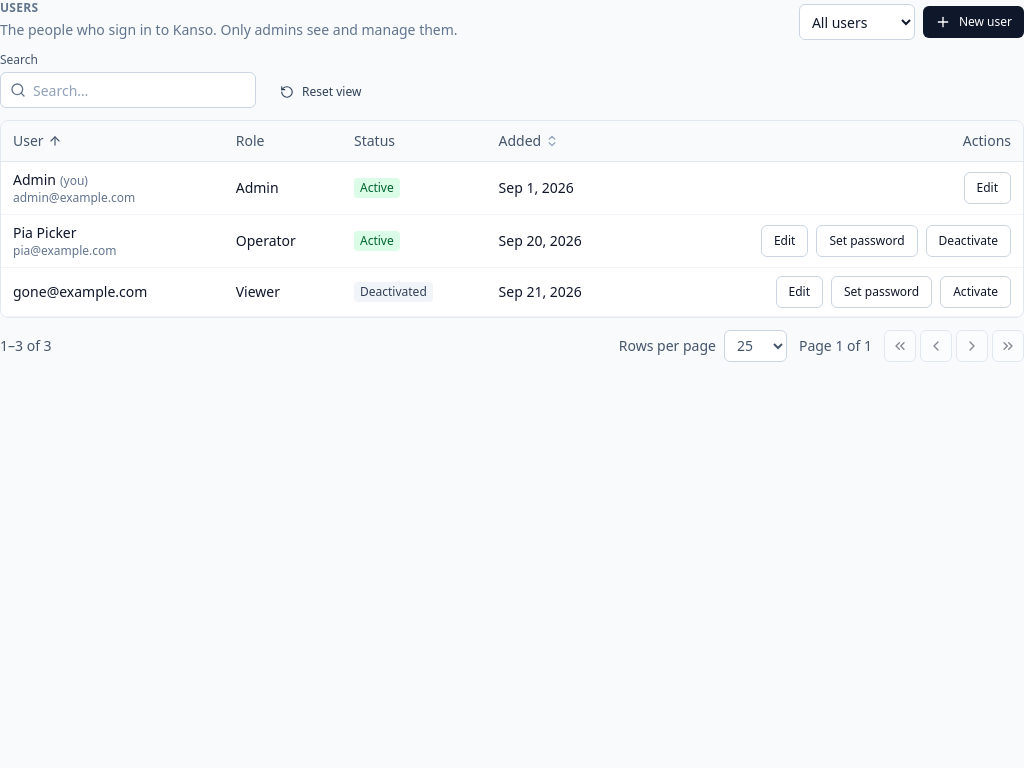
Test: User settings › deactivates someone after asking
Click the button with aria-label "Deactivate Pia Picker" at (968, 240), box [926, 224, 1011, 256]
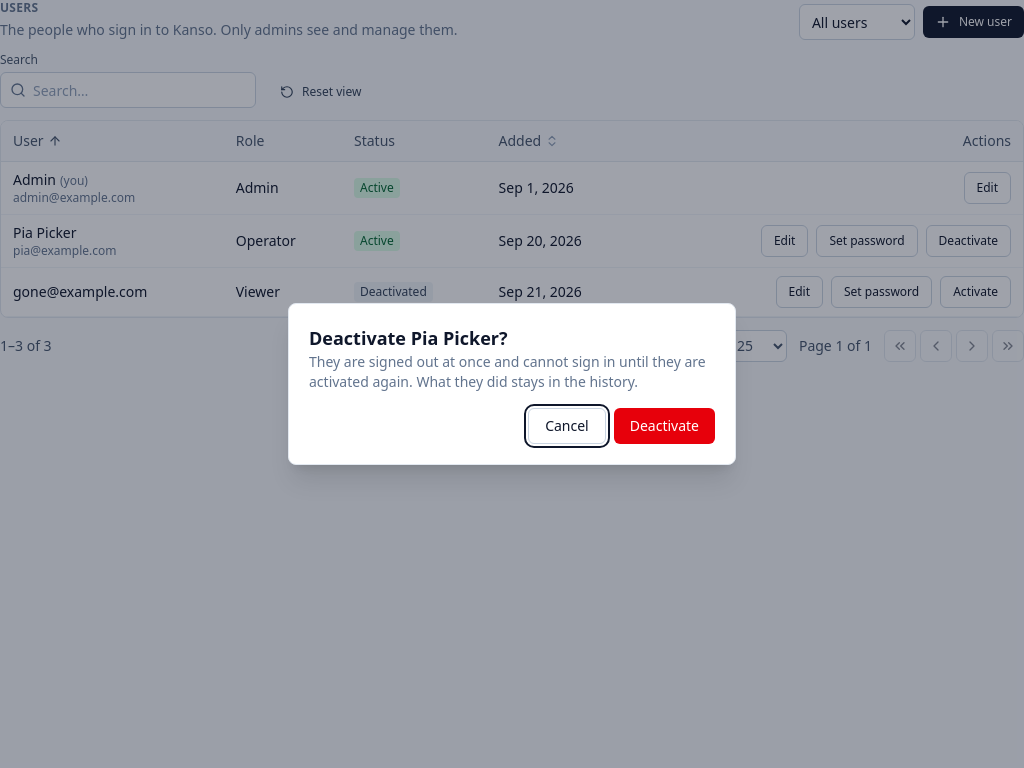
Click the button "Deactivate" at (664, 426), box [614, 408, 715, 444]
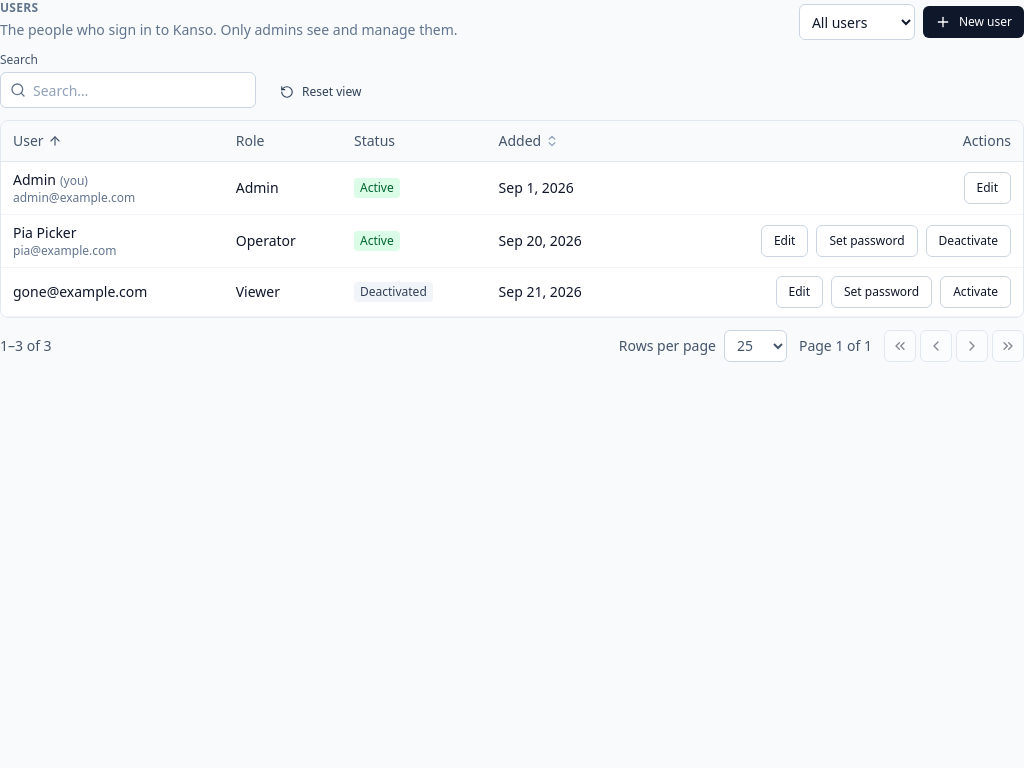
expect the dialog is gone: met
